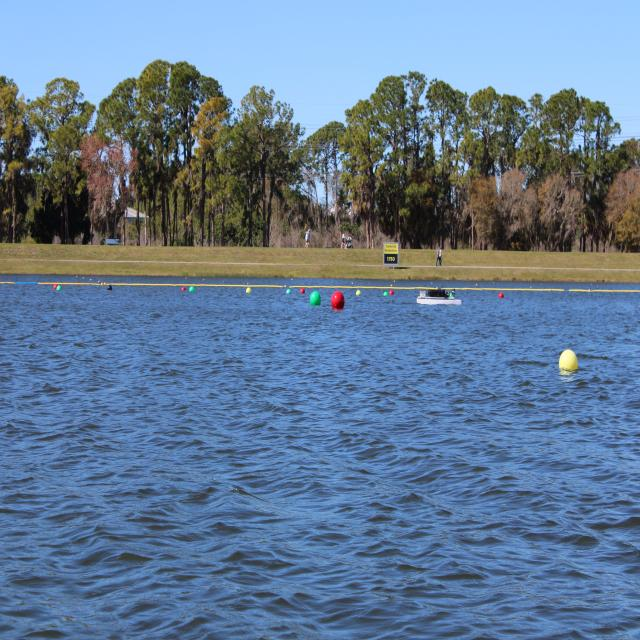green-buoy: (312, 290, 322, 305)
red-buoy: (333, 290, 346, 310)
yellow-buoy: (560, 350, 578, 371), (356, 290, 361, 296)
